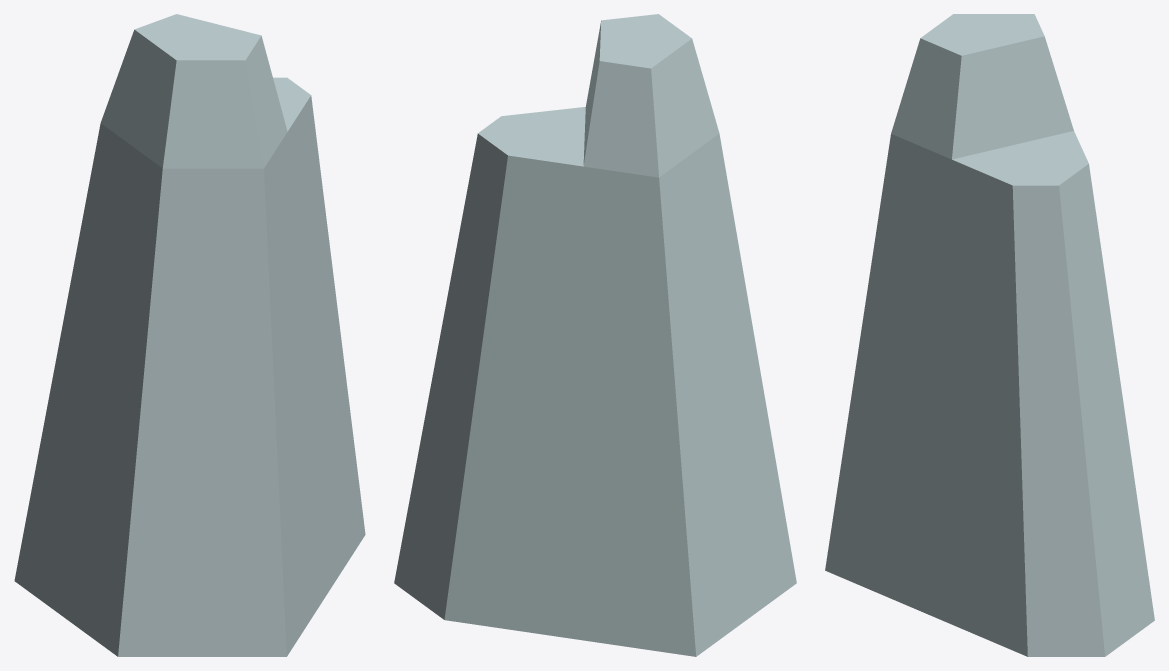
File: stone-tallc.glb
3 renders of one model, left to right at view 1: azimuth 30°, elevation 25°; view 2: azimuth 150°, elevation 25°; view 3: azimuth 270°, elevation 25°, orthographic. The views are drawn at different scales.
Parts seen in each view (by area): view 1: stone_tallC; view 2: stone_tallC; view 3: stone_tallC.
Boxes of the visible parts, x1,y1,x2,y2 form: stone_tallC: (14,14,365,656); stone_tallC: (394,14,796,656); stone_tallC: (825,14,1154,656).
Bounding box in the file's own units: 0.4562 × 0.7829 × 0.4365.
